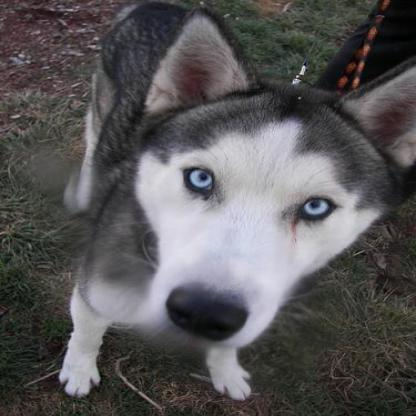Siberian_husky: (58, 0, 412, 397)
